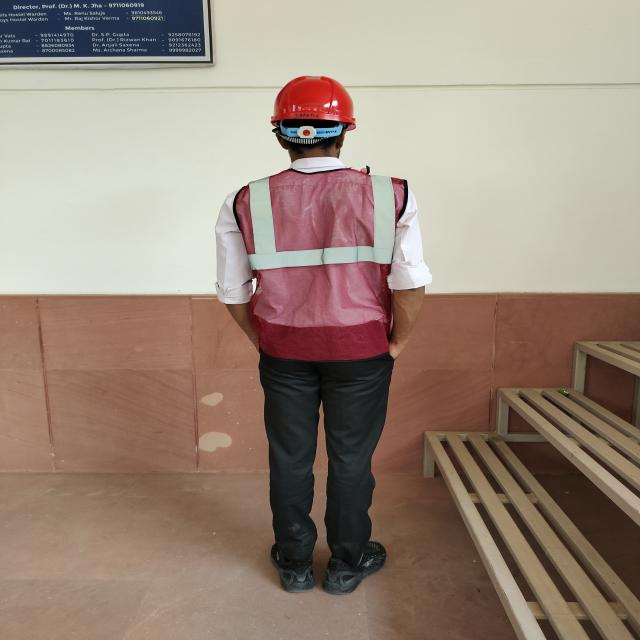safe: (216, 75, 424, 592)
